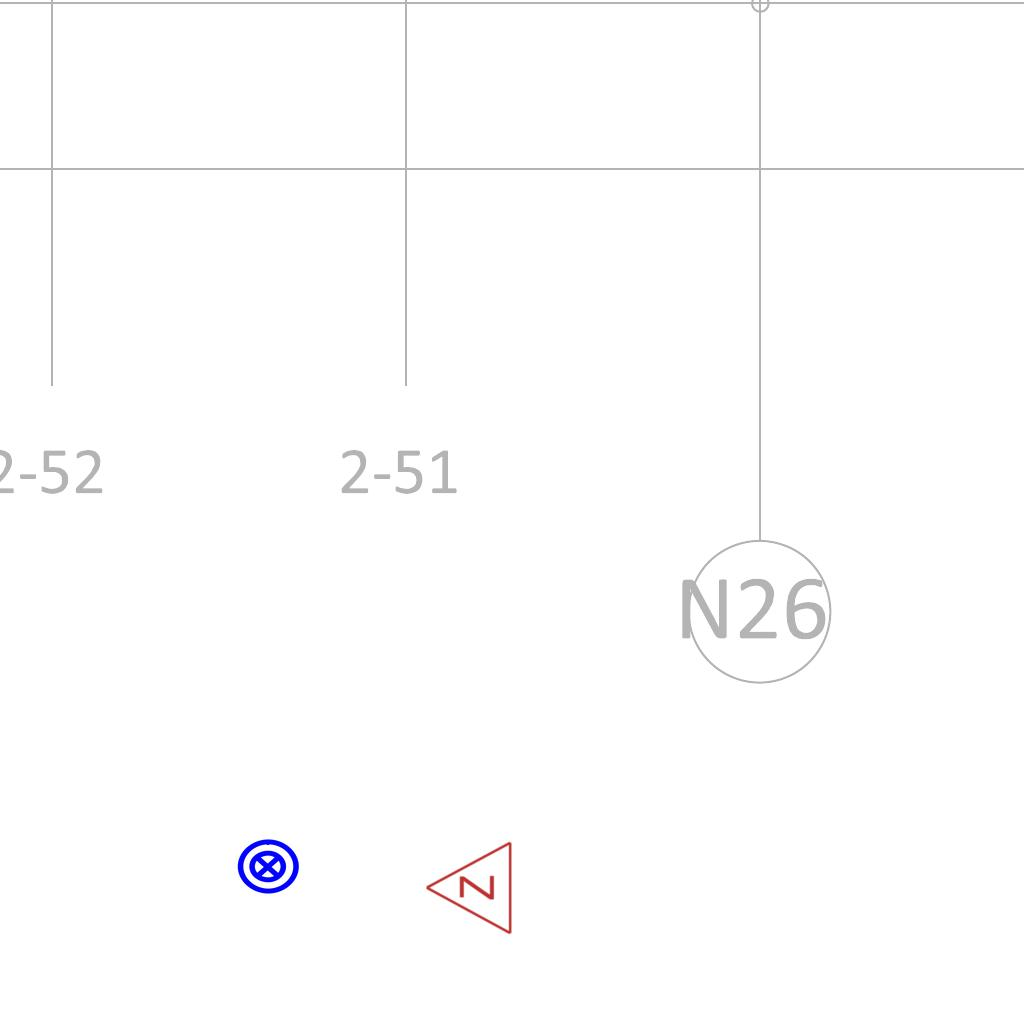Taster_beleuchtet: (235, 834, 301, 900)
Zimmersignalleuchte: (419, 840, 519, 938)
